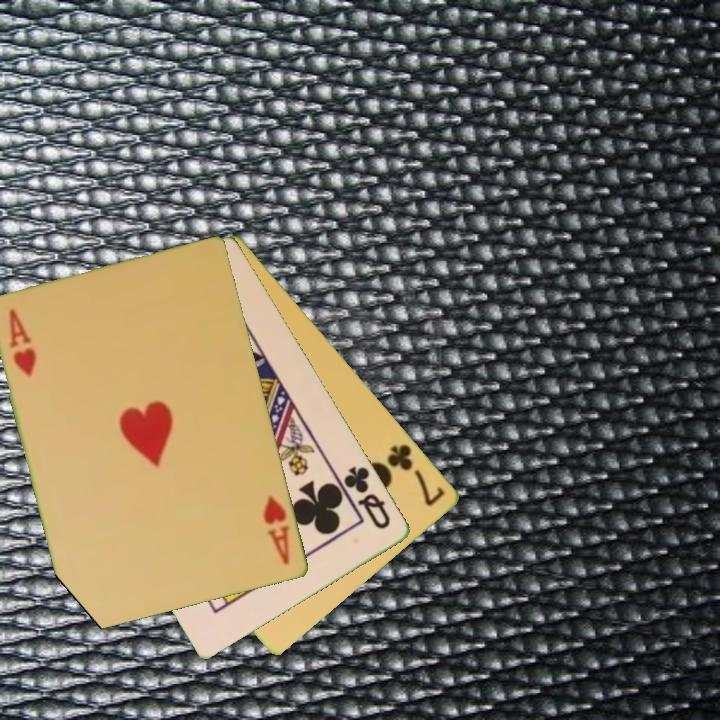7c: (384, 440, 449, 510)
Ah: (6, 306, 40, 381), (260, 492, 293, 568)
Qc: (340, 462, 394, 533)
